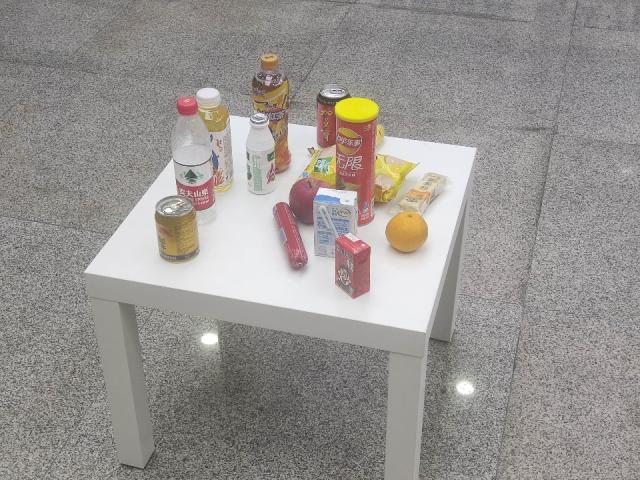Canned_drinks: (155, 197, 199, 262), (318, 84, 350, 147)
bottle: (159, 95, 217, 226)
cylinder: (330, 95, 384, 223)
drink_box: (312, 184, 356, 260), (330, 228, 376, 298)
